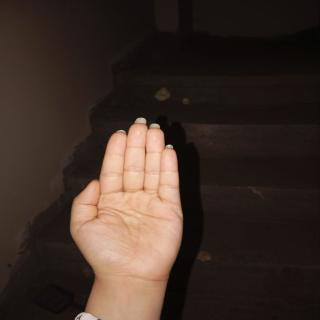SEEN: (66, 111, 195, 299)
